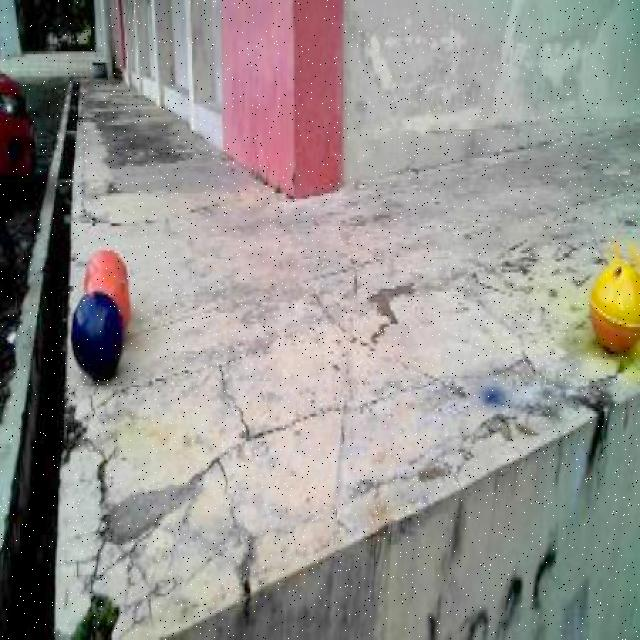buoy: (583, 245, 639, 368), (68, 288, 128, 386), (83, 256, 136, 330), (82, 238, 130, 292)
